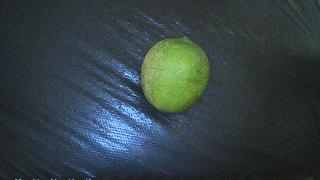DESECHO: (141, 38, 209, 113)
